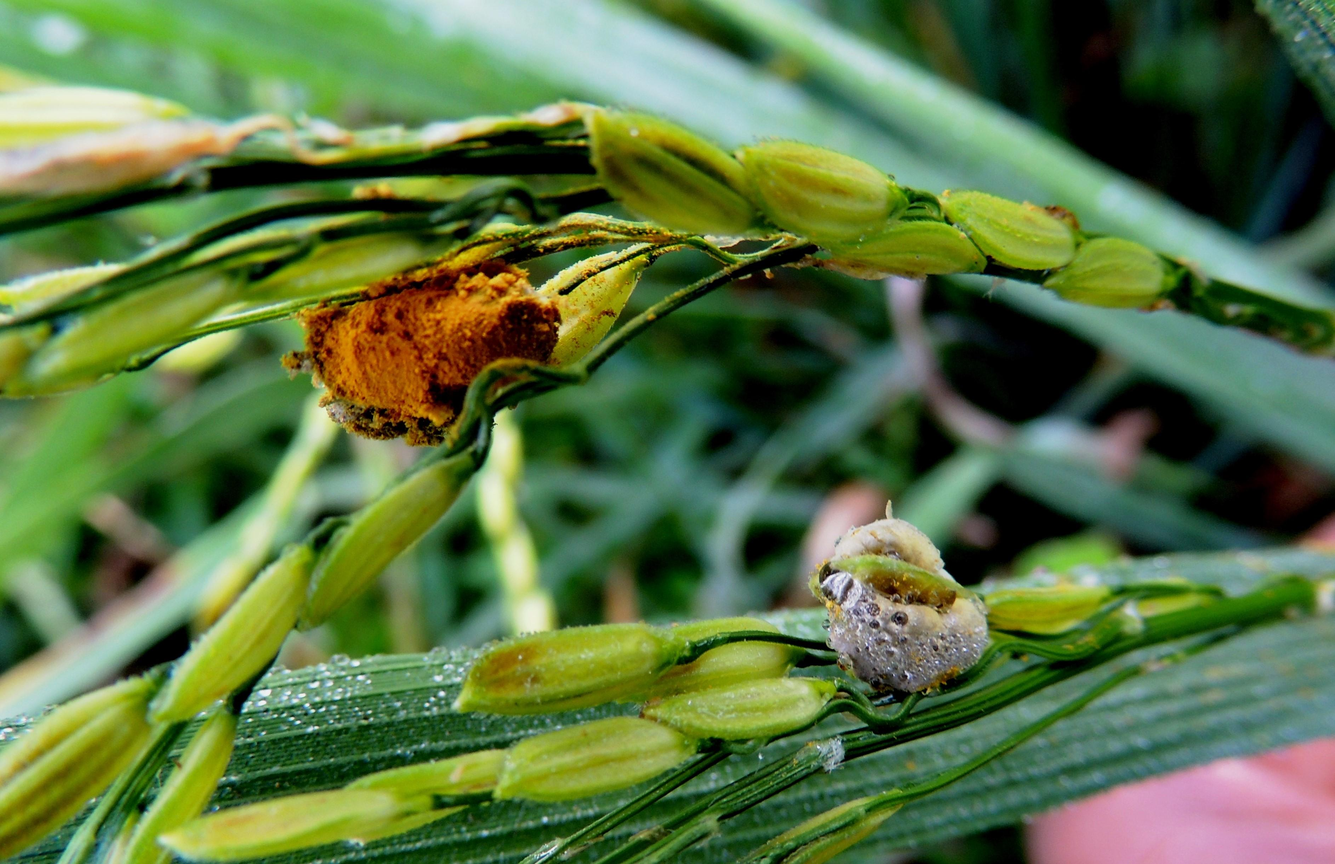False Smut: (281, 241, 574, 442), (821, 495, 989, 720)
